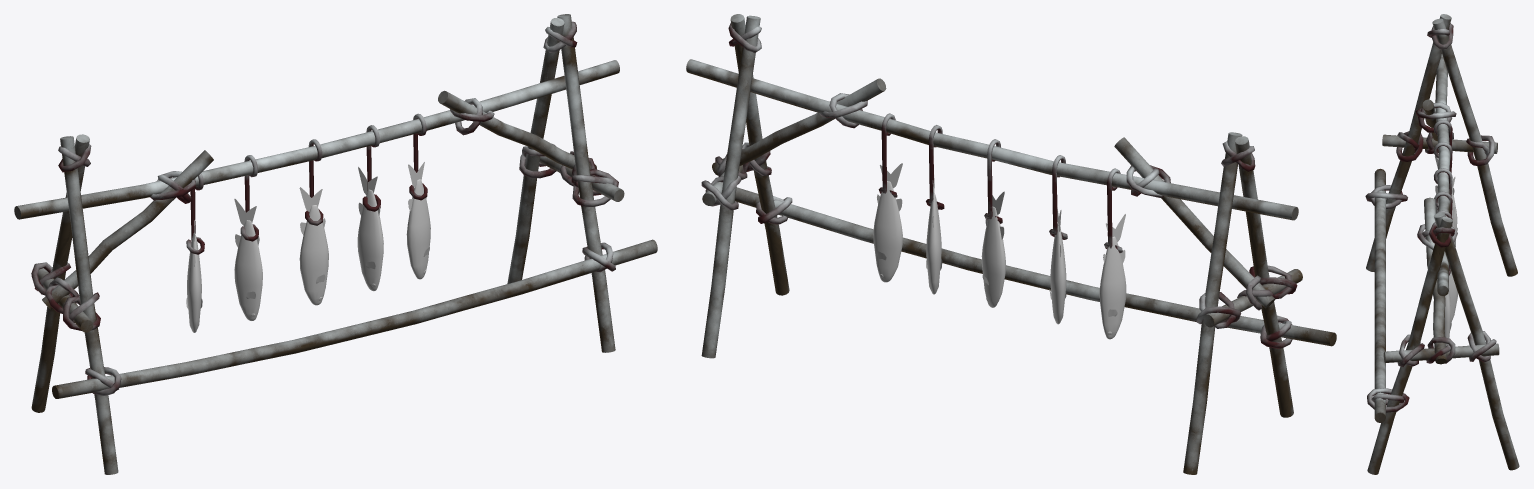
File: SM_Fish_Rack.fbx
3 renders of one model, left to right at view 1: azimuth 30°, elevation 25°; view 2: azimuth 150°, elevation 25°; view 3: azimuth 270°, elevation 25°, orthographic. The views are drawn at different scales.
Visible parts, largest first — view 1: Fish_Rack, SM_Fish_low; view 2: Fish_Rack, SM_Fish_low; view 3: Fish_Rack, SM_Fish_low.
Boxes of the visible parts, bbox=[...] form: Fish_Rack: bbox=[14, 14, 657, 474]; SM_Fish_low: bbox=[186, 162, 430, 332]; Fish_Rack: bbox=[686, 14, 1336, 474]; SM_Fish_low: bbox=[873, 163, 1126, 339]; Fish_Rack: bbox=[1365, 14, 1519, 474]; SM_Fish_low: bbox=[1435, 156, 1457, 345].
Bounding box in the file's own units: 3 × 1.46 × 0.8017.
